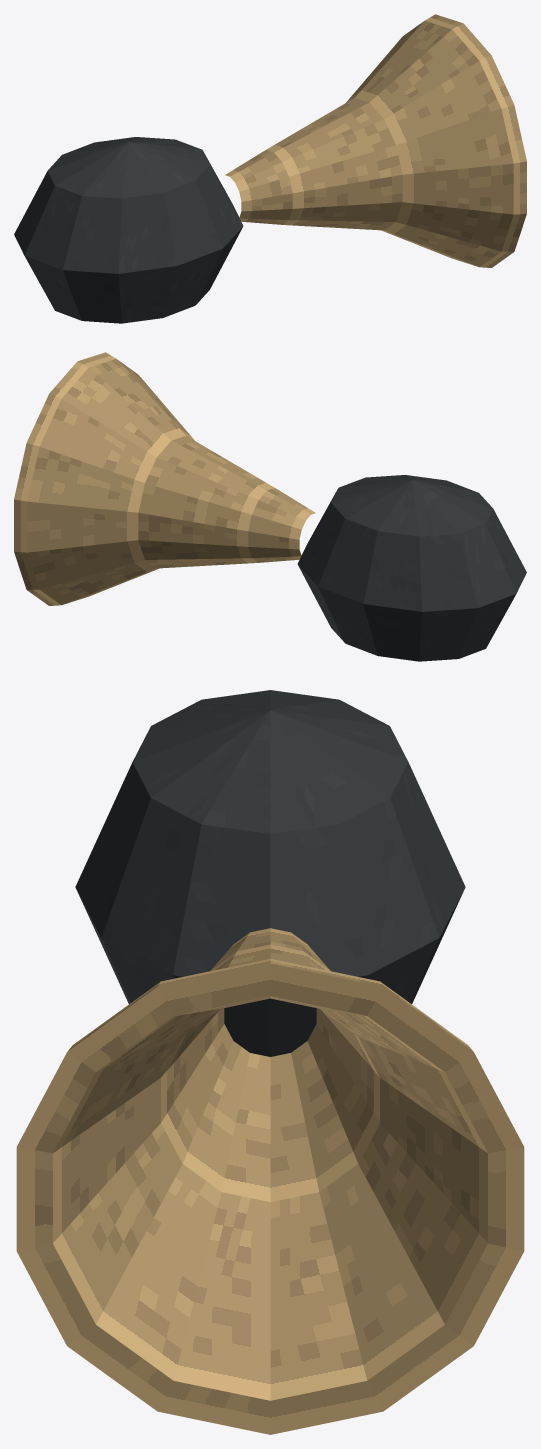
The model's file is horn_bicycle.glb.
3 views of the same model, one above another, from view 1: azimuth 30°, elevation 25°; view 2: azimuth 150°, elevation 25°; view 3: azimuth 270°, elevation 25° (orthographic). The views are drawn at different scales.
Parts seen in each view (by area): view 1: block_flared horn, block_rubber bulb; view 2: block_flared horn, block_rubber bulb; view 3: block_flared horn, block_rubber bulb.
Boxes of the visible parts, box(x1,y1,x2,y2) form: block_flared horn: box(225, 14, 526, 267); block_rubber bulb: box(14, 137, 243, 323); block_flared horn: box(14, 352, 315, 605); block_rubber bulb: box(297, 475, 526, 661); block_flared horn: box(16, 928, 524, 1434); block_rubber bulb: box(75, 690, 465, 1056).
Size of the model in its own units: 0.1508 by 0.0774 by 0.0754.
Materials: 1 (1 with a texture image).
